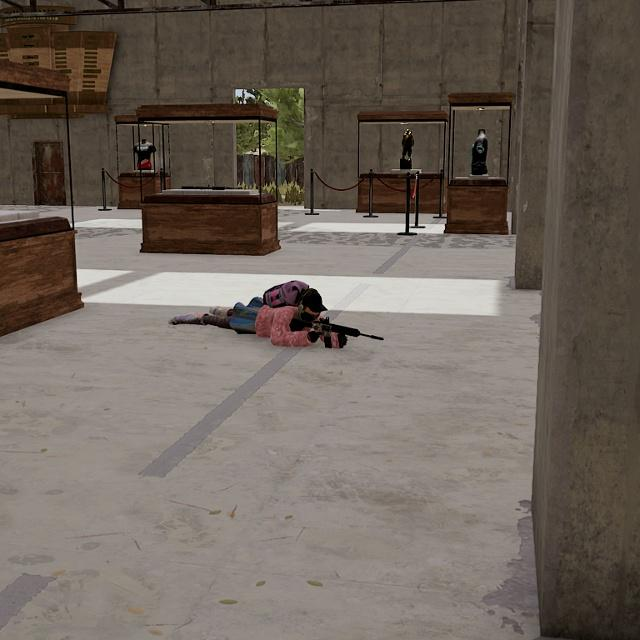head: (294, 286, 328, 322)
people: (165, 282, 350, 350)
